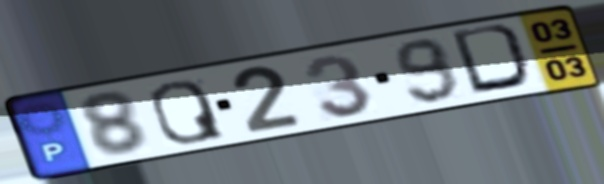2: (234, 62, 310, 138)
3: (301, 51, 377, 121)
8: (76, 89, 153, 160)
9: (392, 36, 467, 105)
D: (447, 21, 539, 97)
Q: (146, 78, 229, 147)
